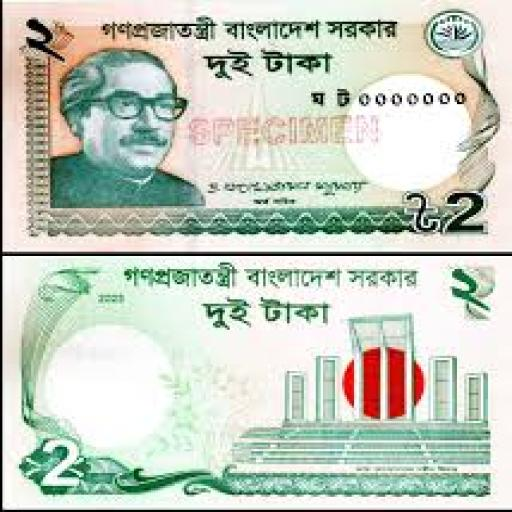2taka: (2, 256, 510, 510), (0, 0, 495, 247)
